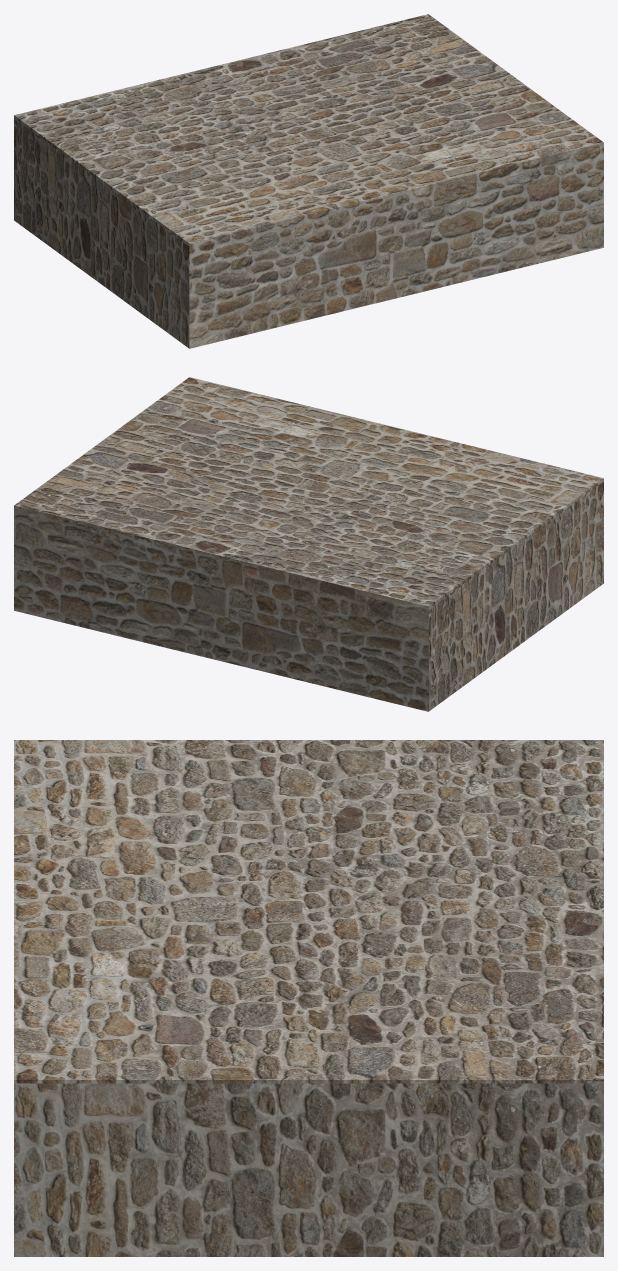
Rendered from Wall 1.fbx.
3 views of the same model, one above another, from view 1: azimuth 30°, elevation 25°; view 2: azimuth 150°, elevation 25°; view 3: azimuth 270°, elevation 25° (orthographic). The views are drawn at different scales.
Parts seen in each view (by area): view 1: Cube; view 2: Cube; view 3: Cube.
Boxes of the visible parts, x1,y1,x2,y2 form: Cube: (14,14,603,348); Cube: (14,377,603,711); Cube: (14,740,603,1256).
Bounding box in the file's own units: 6.45 × 1.56 × 4.73.
